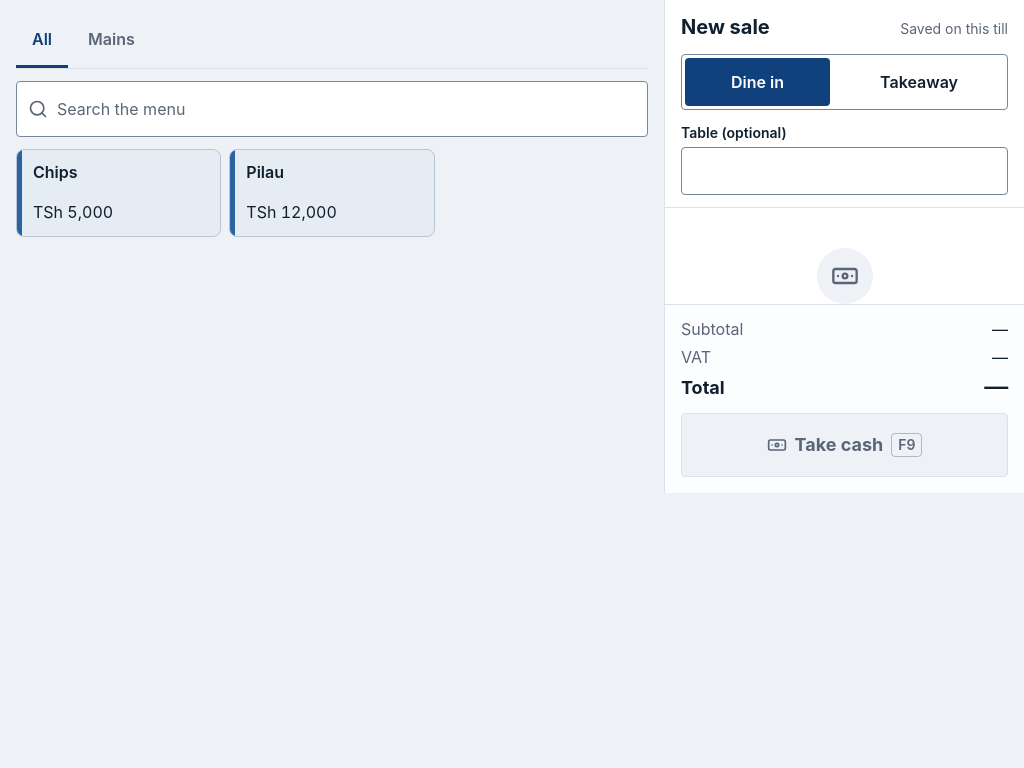
Test: the offline register › takes cash in money words, not minor units, and says the sale is saved with the change
The image size is (1024, 768).
Click the button with test id "menu-Chips" at (119, 193), box [16,149,221,237]
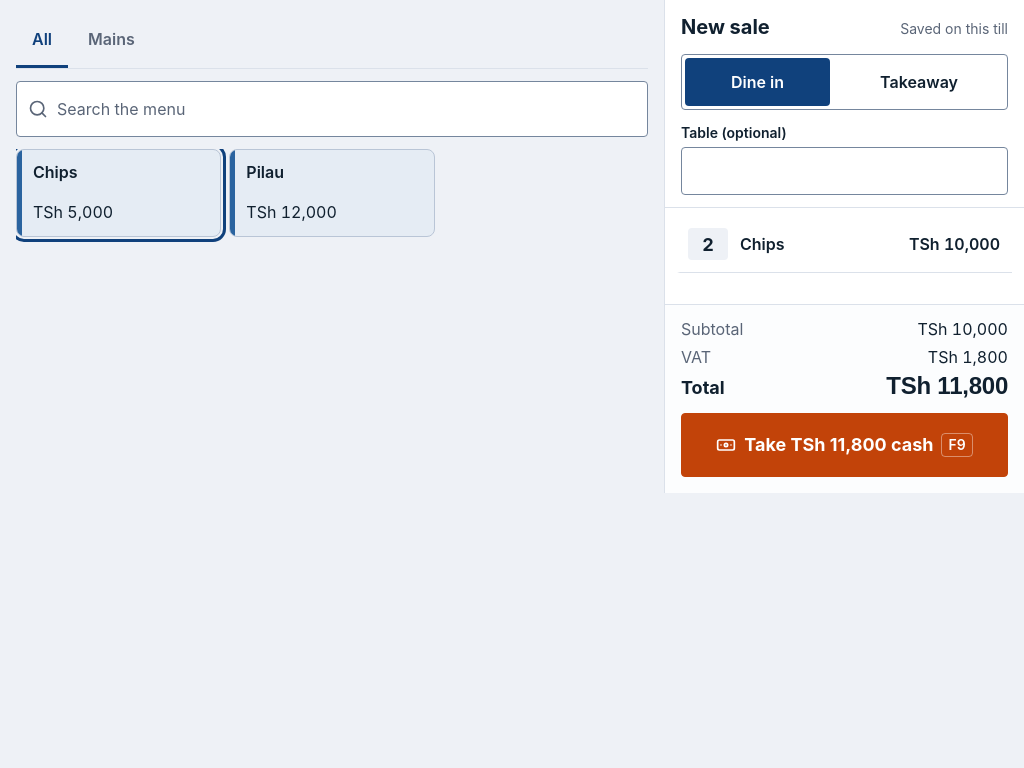
Expected: the list item with test id "cart-Chips" is shown, [677,216,1012,273]
Click the button with test id "offline-pay" at (844, 445), box [681,413,1008,477]
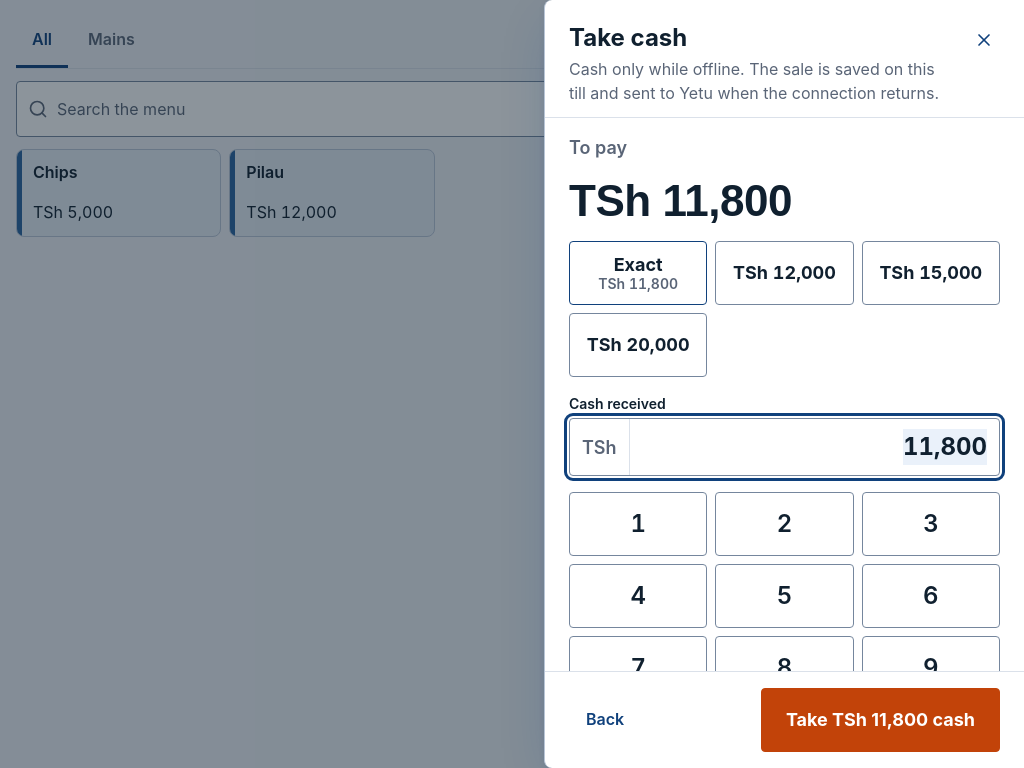
Expected: the text with test id "amount-due" reads "TSh 11,800", [569,176,792,225]
Type "20000" into the field with test id "offline-cash-received" at (814, 447), box [630,419,999,475]
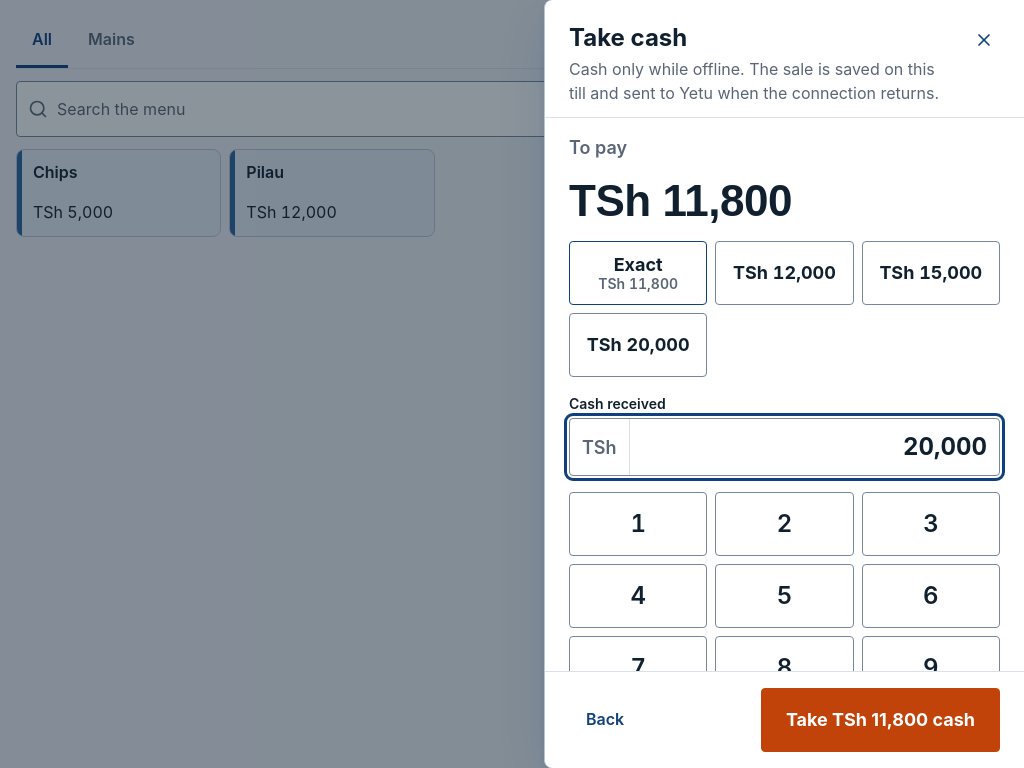
Click the button with test id "confirm-offline-cash" at (880, 720), box [761,688,1000,752]
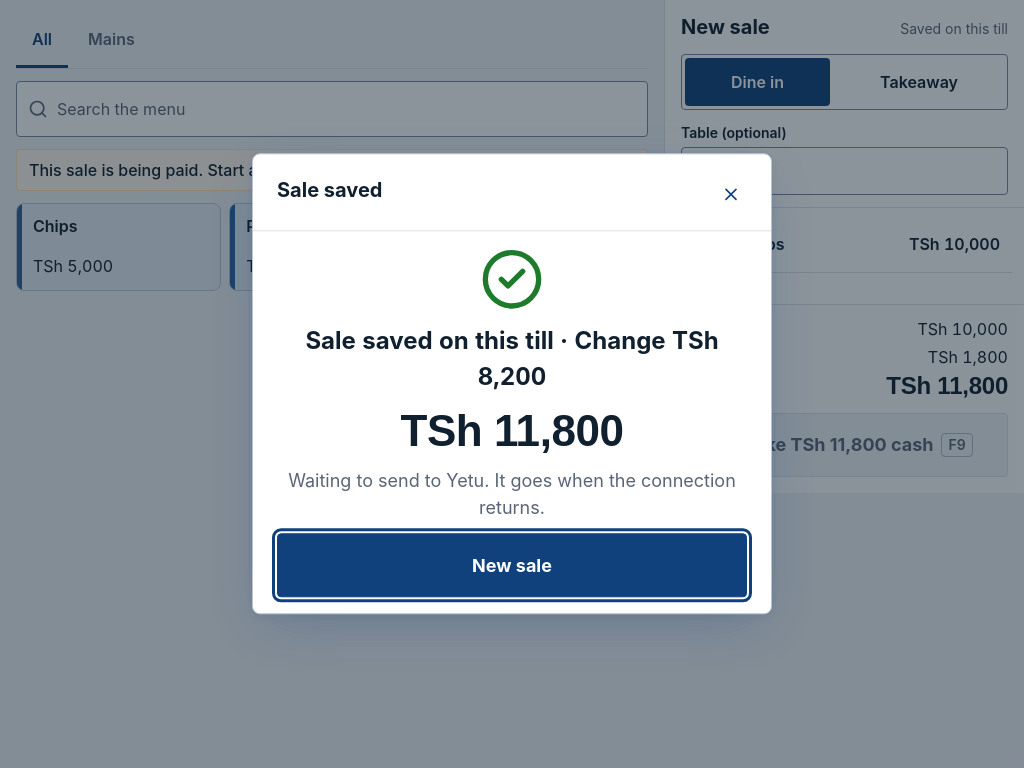
Expected: the message with test id "offline-sale-saved-line" reads "Sale saved on this till · Change TSh 8,200", [305,326,719,391]
Expected: the dialog with test id "offline-sale-saved" shows "Waiting to send to Yetu", [288,471,736,519]
Click the button "New sale" at (512, 566), box [277,534,747,598]
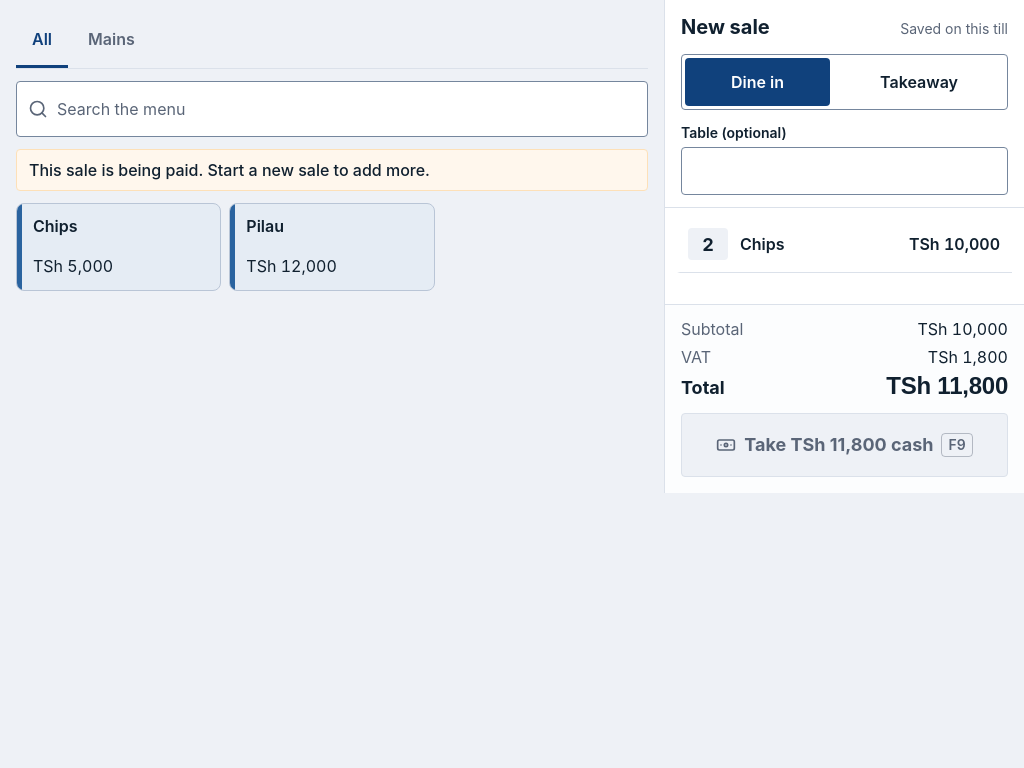
Expected: the dialog with test id "offline-sale-saved" is gone
